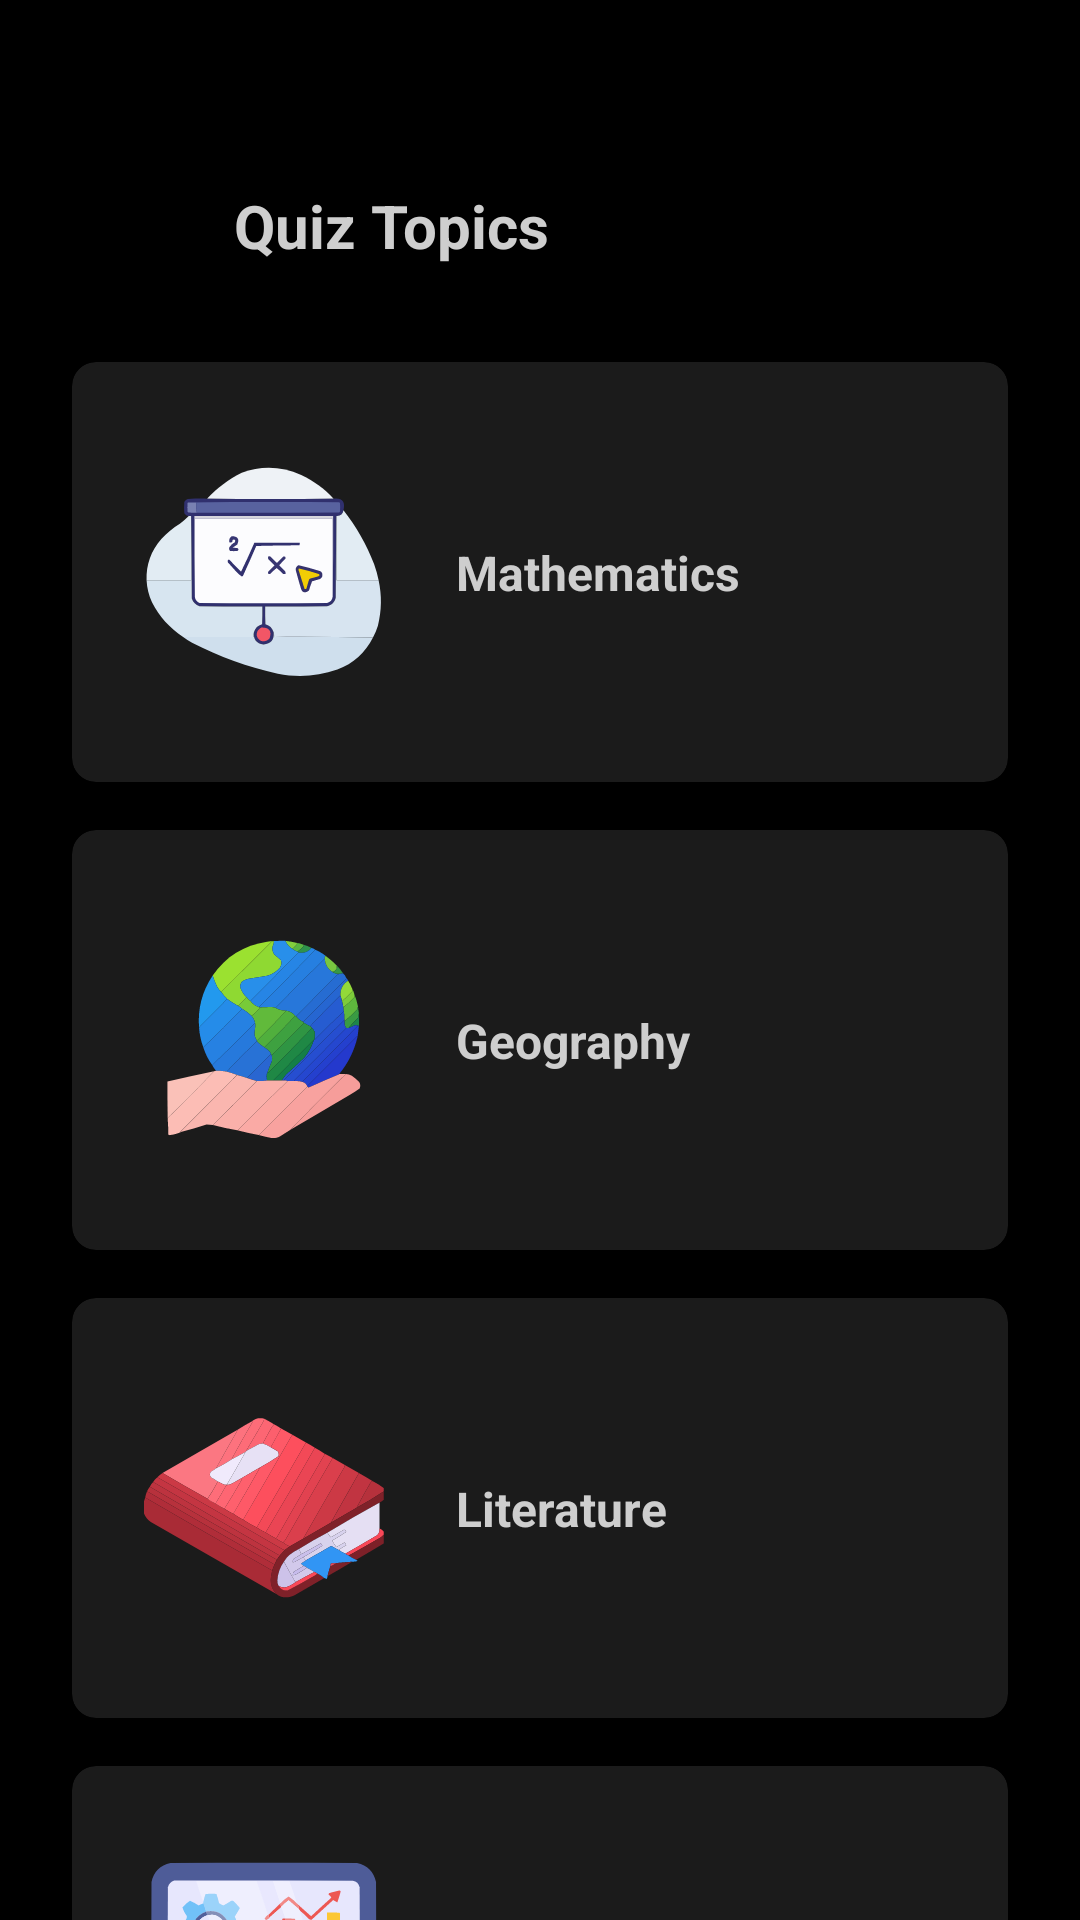

Named icons in this screenshot (1080×1920) and their bounding boxes, (x1=x1, y1=y1, x2=x2, y2=y2):
blackboard: (x1=146, y1=467, x2=381, y2=676)
book: (x1=144, y1=1418, x2=384, y2=1598)
worldwide: (x1=167, y1=940, x2=361, y2=1138)
